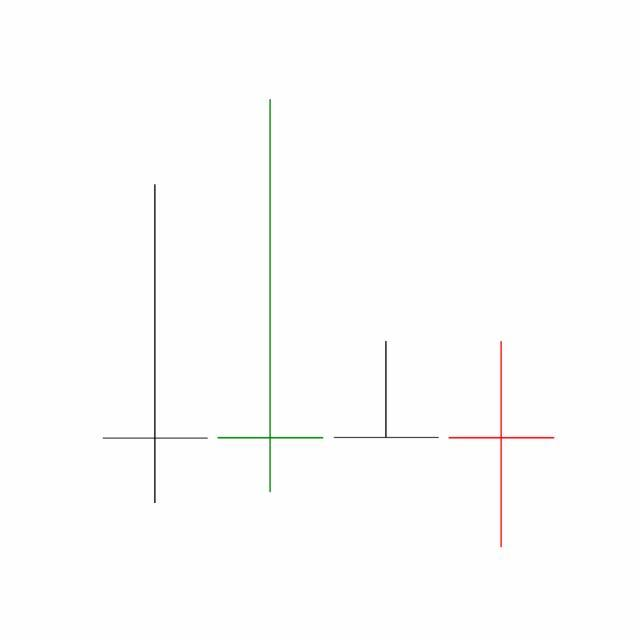Gravestone Doji: (329, 340, 445, 440)
